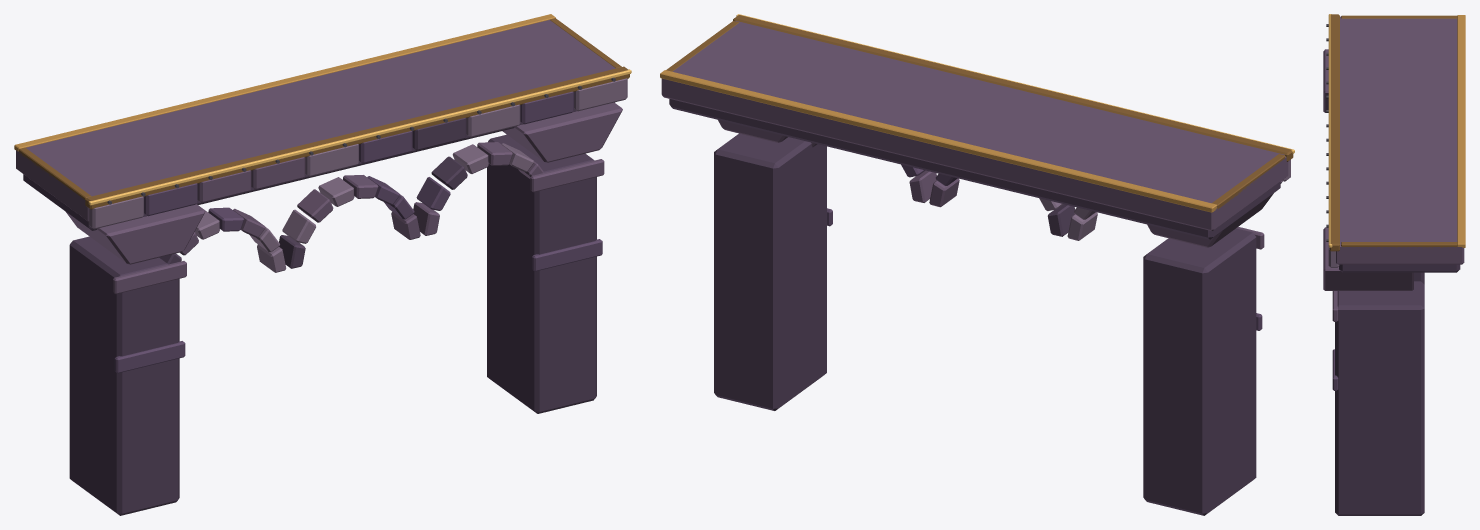
Rendered from SM_Vault_RetakeDeck_09.fbx.
3 renders of one model, left to right at view 1: azimuth 30°, elevation 25°; view 2: azimuth 150°, elevation 25°; view 3: azimuth 270°, elevation 25°, orthographic. The views are drawn at different scales.
Parts seen in each view (by area): view 1: SM_Vault_RetakeDeck_09; view 2: SM_Vault_RetakeDeck_09; view 3: SM_Vault_RetakeDeck_09.
Part boxes in pixels (left/top/right/bottom): SM_Vault_RetakeDeck_09: left=14, top=14, right=631, bottom=515; SM_Vault_RetakeDeck_09: left=660, top=14, right=1294, bottom=515; SM_Vault_RetakeDeck_09: left=1323, top=14, right=1465, bottom=515.
Bounding box in the file's own units: 776 × 203 × 447.
